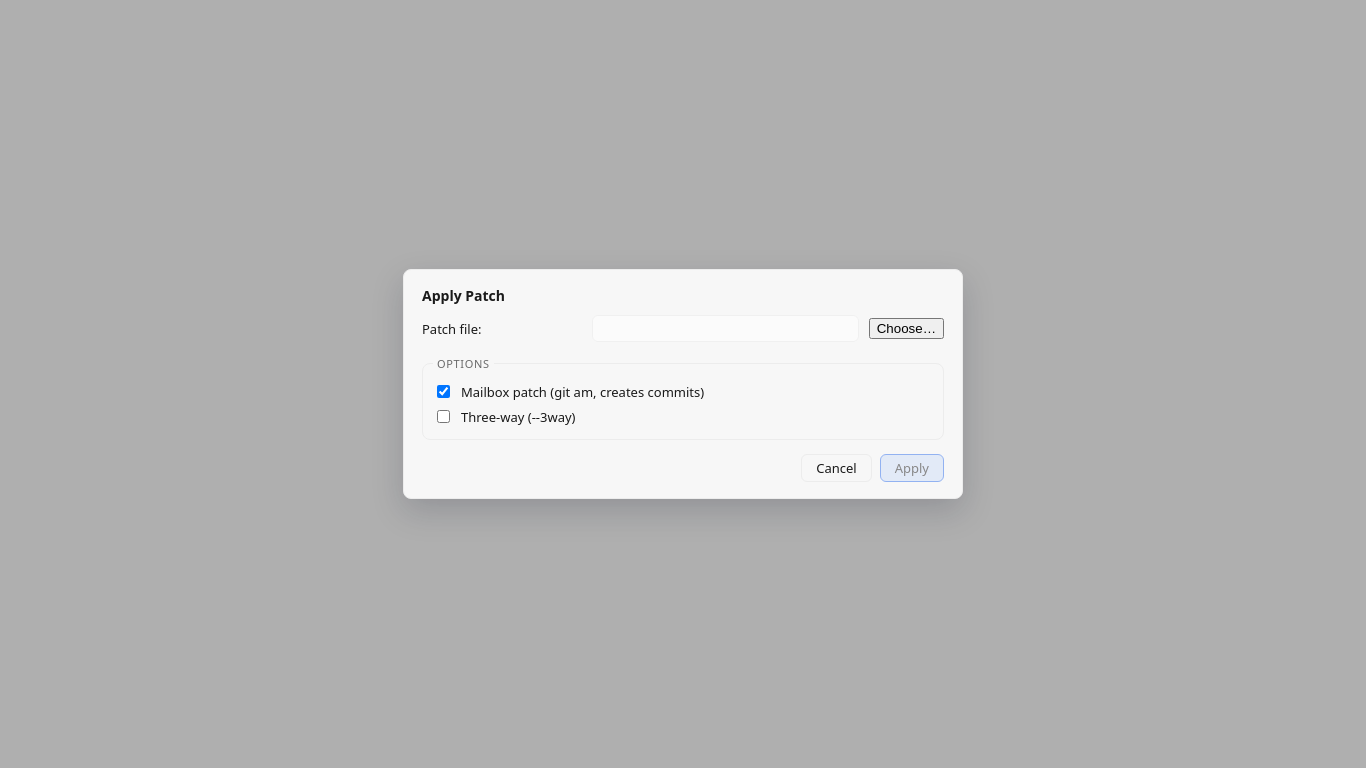
Test case: ApplyPatchDialog › reports a failure without closing
What coordinates should you click on to do the following:
click the button "Choose…"
I would click on:
 (906, 328)
Its box is left=869, top=318, right=944, bottom=339.
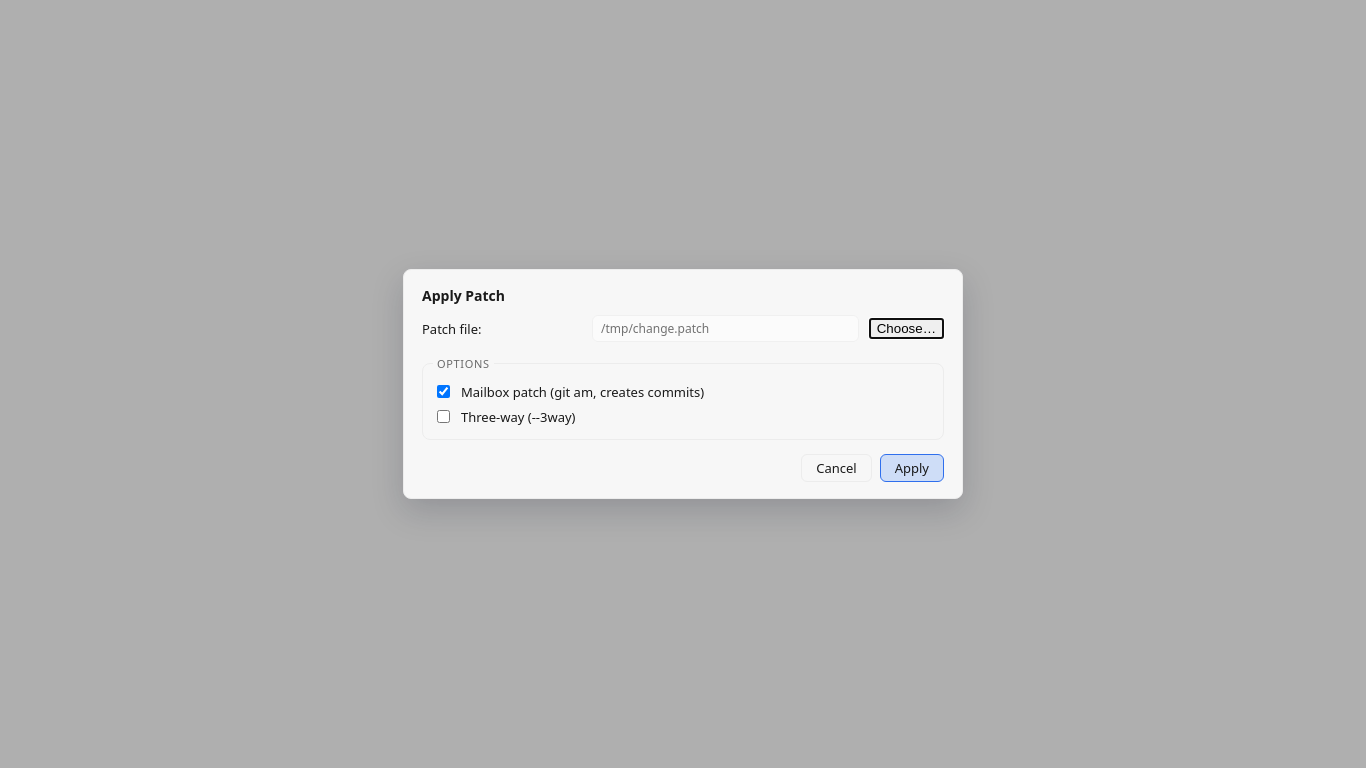
What coordinates should you click on to do the following:
click the button "Apply"
I would click on:
 (912, 468)
Its box is left=880, top=454, right=944, bottom=482.
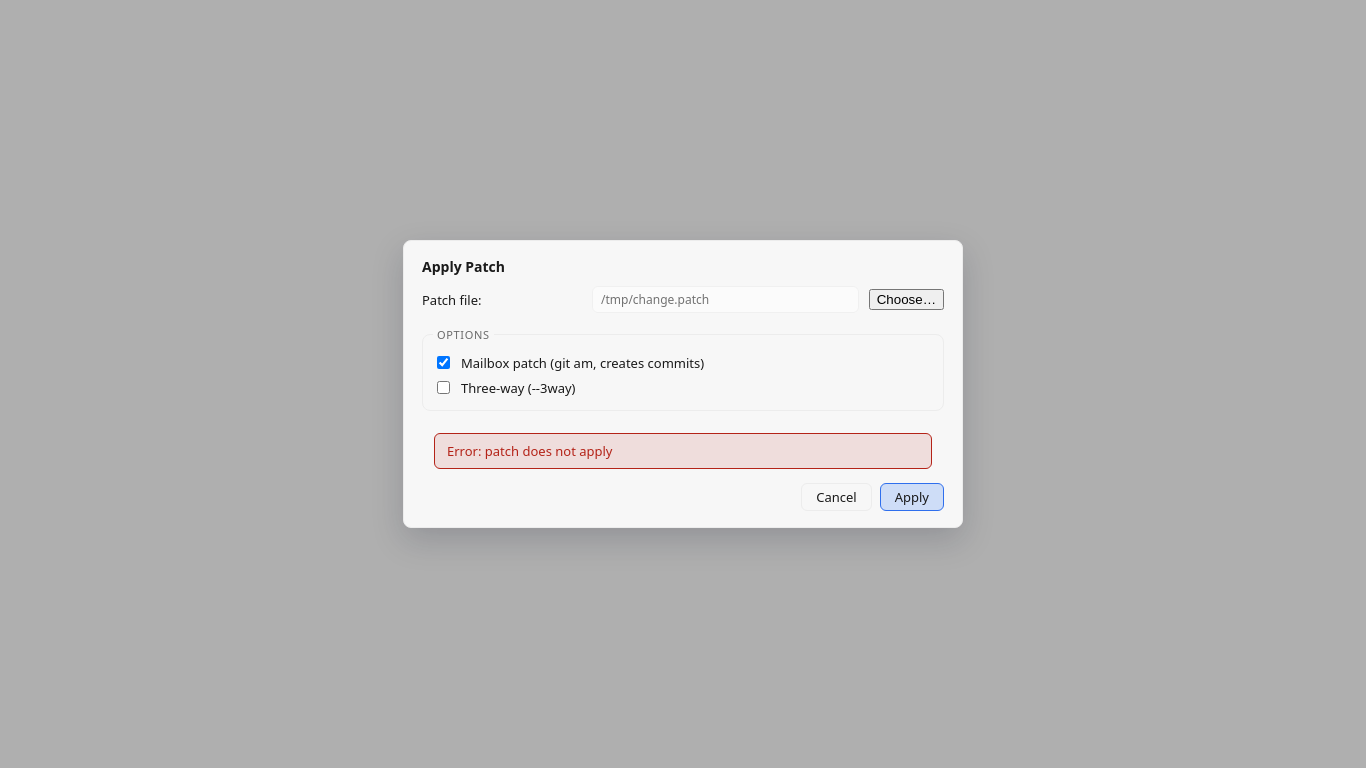
Now the message shows "does not apply", box left=447, top=442, right=612, bottom=460
